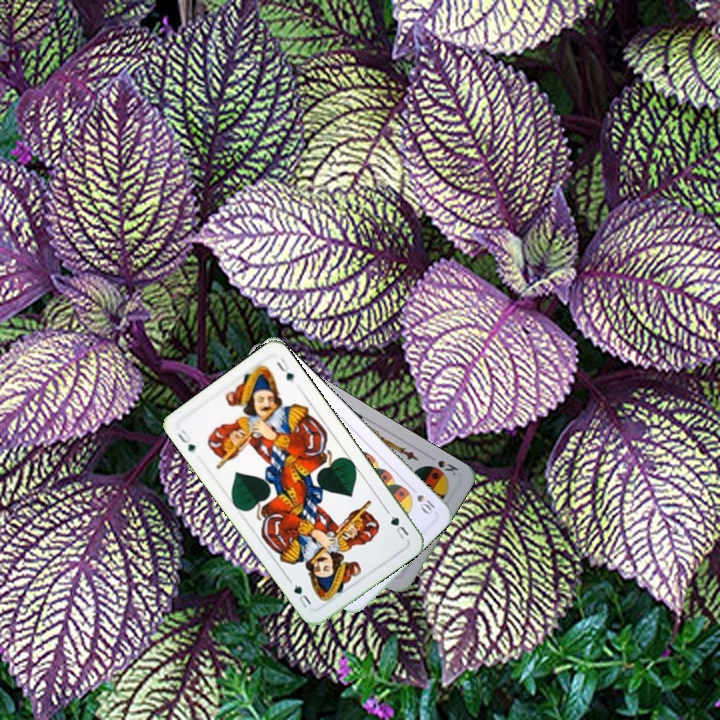GU: (383, 507, 411, 542), (173, 426, 198, 455)
S10: (406, 483, 439, 517)
SK: (434, 456, 461, 478)
